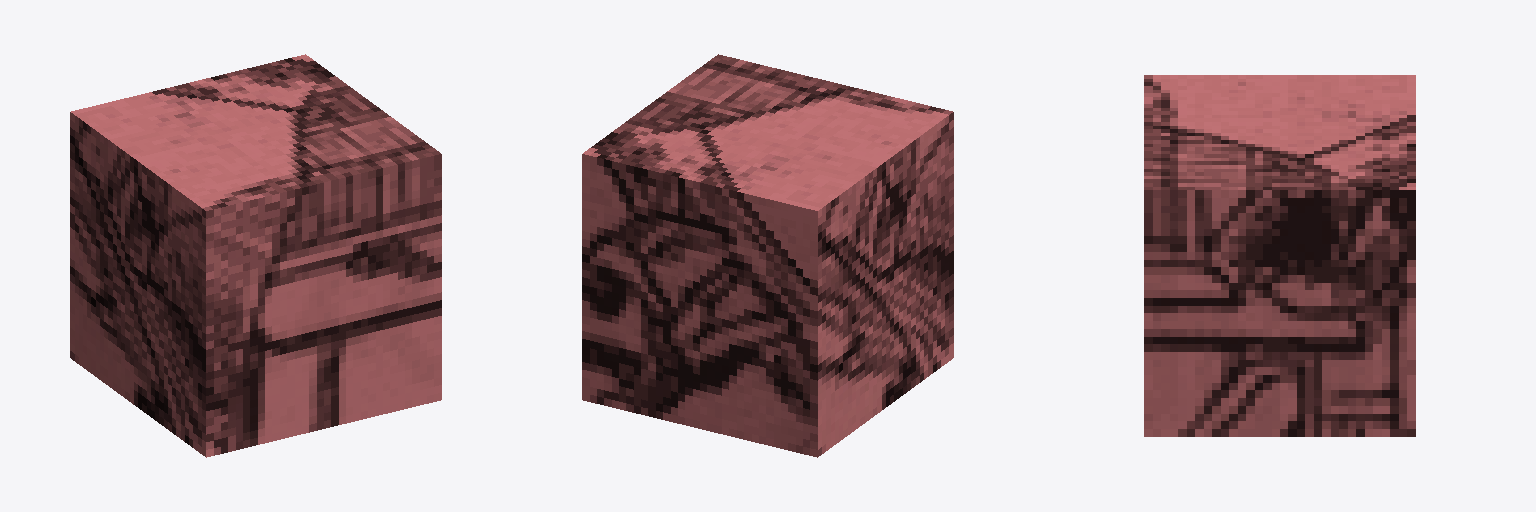
The picture shows the model from 3 angles: view 1: azimuth 30°, elevation 25°; view 2: azimuth 150°, elevation 25°; view 3: azimuth 270°, elevation 25°; orthographic projection.
Parts seen in each view (by area): view 1: pCube1; view 2: pCube1; view 3: pCube1.
Boxes of the visible parts, x1=… form: pCube1: x1=70, y1=54, x2=441, y2=457; pCube1: x1=582, y1=54, x2=953, y2=457; pCube1: x1=1144, y1=75, x2=1415, y2=436.
Bounding box in the file's own units: 3.75 × 3.75 × 3.75.
Materials: 1 (1 with a texture image).